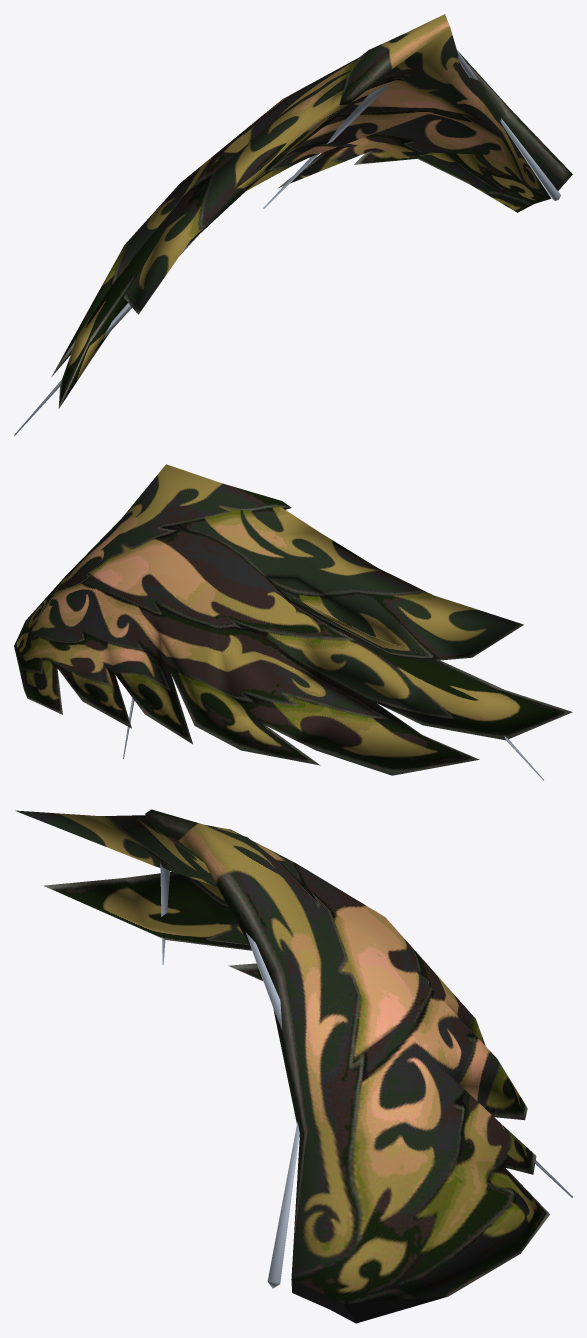
File: right-wing.obj
3 renders of one model, top to bottom at view 1: azimuth 30°, elevation 25°; view 2: azimuth 150°, elevation 25°; view 3: azimuth 270°, elevation 25°, orthographic. The views are drawn at different scales.
Parts seen in each view (by area): view 1: dragon; view 2: dragon; view 3: dragon.
Boxes of the visible parts, x1,y1,x2,y2 form: dragon: (14, 14, 572, 435); dragon: (14, 464, 572, 780); dragon: (15, 809, 572, 1323).
Bounding box in the file's own units: 82.07 × 38.81 × 44.1.
